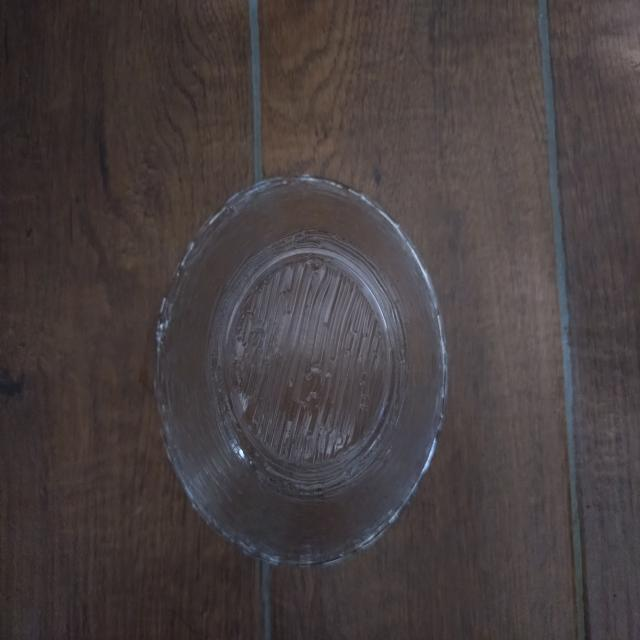Dry Waste: (146, 169, 452, 577)
